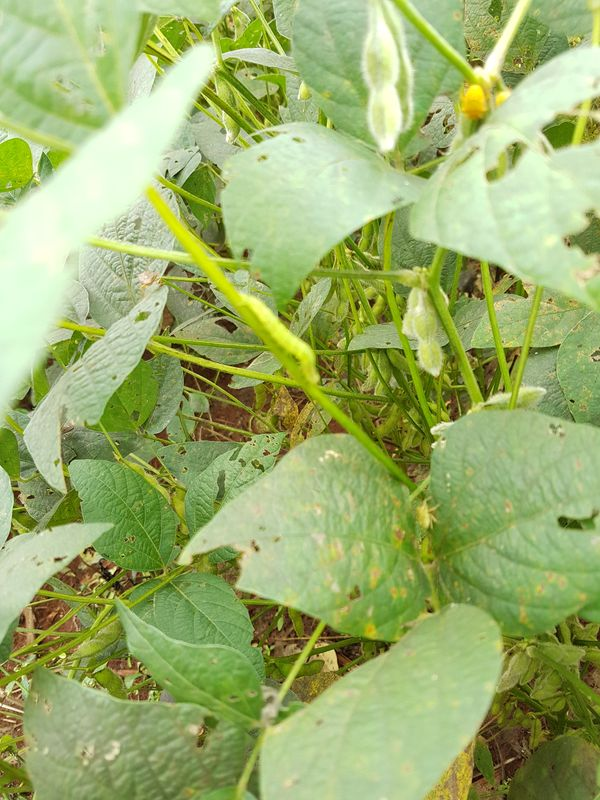Anticarsia_gemmatalis: (224, 283, 329, 389)
Euschistus_heros_adulto: (130, 267, 163, 297)
Euschistus_heros_ninfa: (452, 76, 491, 125), (409, 493, 442, 537)
